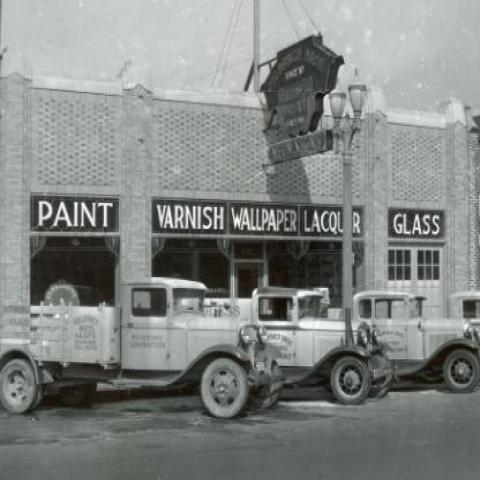truck: (0, 281, 282, 413), (246, 288, 396, 407), (323, 285, 479, 395), (448, 291, 479, 332)
